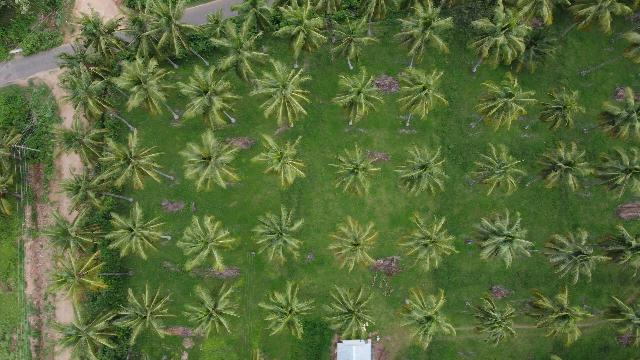trees: (521, 283, 599, 348), (470, 3, 537, 73), (48, 300, 124, 360), (96, 131, 169, 193), (175, 65, 244, 130), (113, 283, 182, 348), (537, 227, 613, 286), (67, 6, 132, 73), (250, 62, 314, 129), (137, 2, 205, 65), (112, 56, 179, 119), (210, 17, 272, 85), (466, 209, 536, 269), (396, 213, 464, 274), (473, 74, 541, 133), (394, 288, 455, 353), (103, 204, 171, 262), (55, 63, 118, 125), (176, 214, 241, 274), (180, 281, 244, 341), (396, 4, 454, 69), (251, 205, 309, 268), (45, 249, 111, 304), (259, 281, 317, 342), (50, 111, 111, 169), (250, 127, 309, 186), (332, 67, 389, 128), (532, 143, 597, 196), (275, 4, 331, 65), (468, 144, 530, 199), (393, 145, 452, 202), (327, 217, 384, 275), (325, 286, 382, 344), (184, 135, 240, 194), (40, 209, 104, 260), (54, 160, 114, 214), (329, 143, 385, 200), (465, 291, 520, 349), (395, 68, 450, 125), (325, 11, 379, 69), (592, 146, 640, 202), (535, 87, 588, 134), (598, 87, 640, 143), (568, 1, 630, 37), (235, 3, 278, 40), (505, 1, 559, 29), (362, 1, 392, 25)
